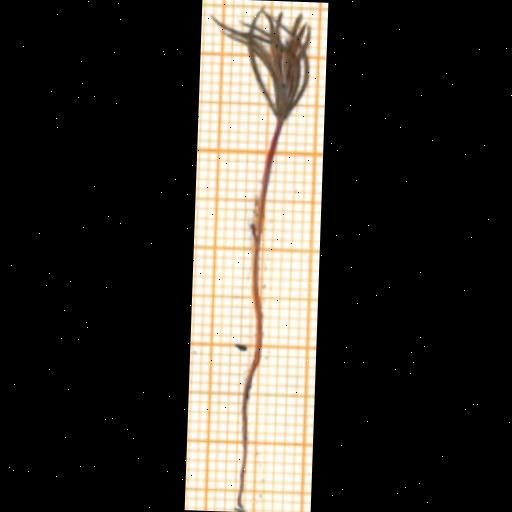flowerPinus: (215, 7, 311, 119)
rootPinus: (236, 345, 262, 510)
stemPinus: (252, 118, 282, 348)
